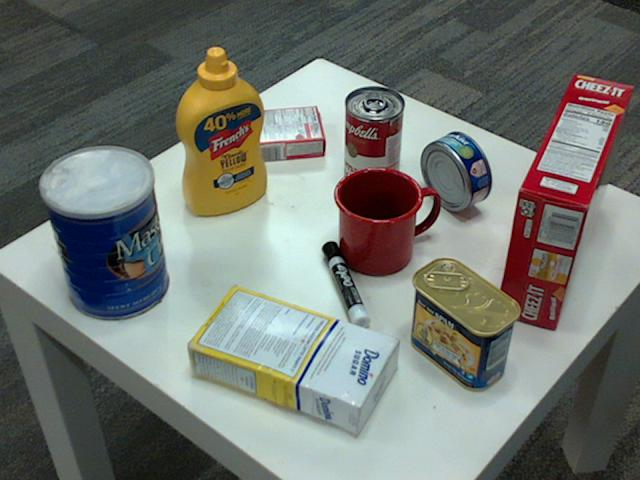cracker_box: (494, 73, 631, 327)
gelatin_box: (249, 103, 326, 159)
large_marker: (322, 242, 369, 334)
master_chef_can: (37, 146, 167, 321)
mug: (332, 164, 436, 272)
mustard_bottle: (174, 47, 267, 214)
potted_meat_can: (407, 257, 520, 390)
sugar_box: (181, 282, 396, 431)
tomato_soup_can: (343, 86, 403, 191)
tuna_fish_can: (419, 130, 490, 210)
